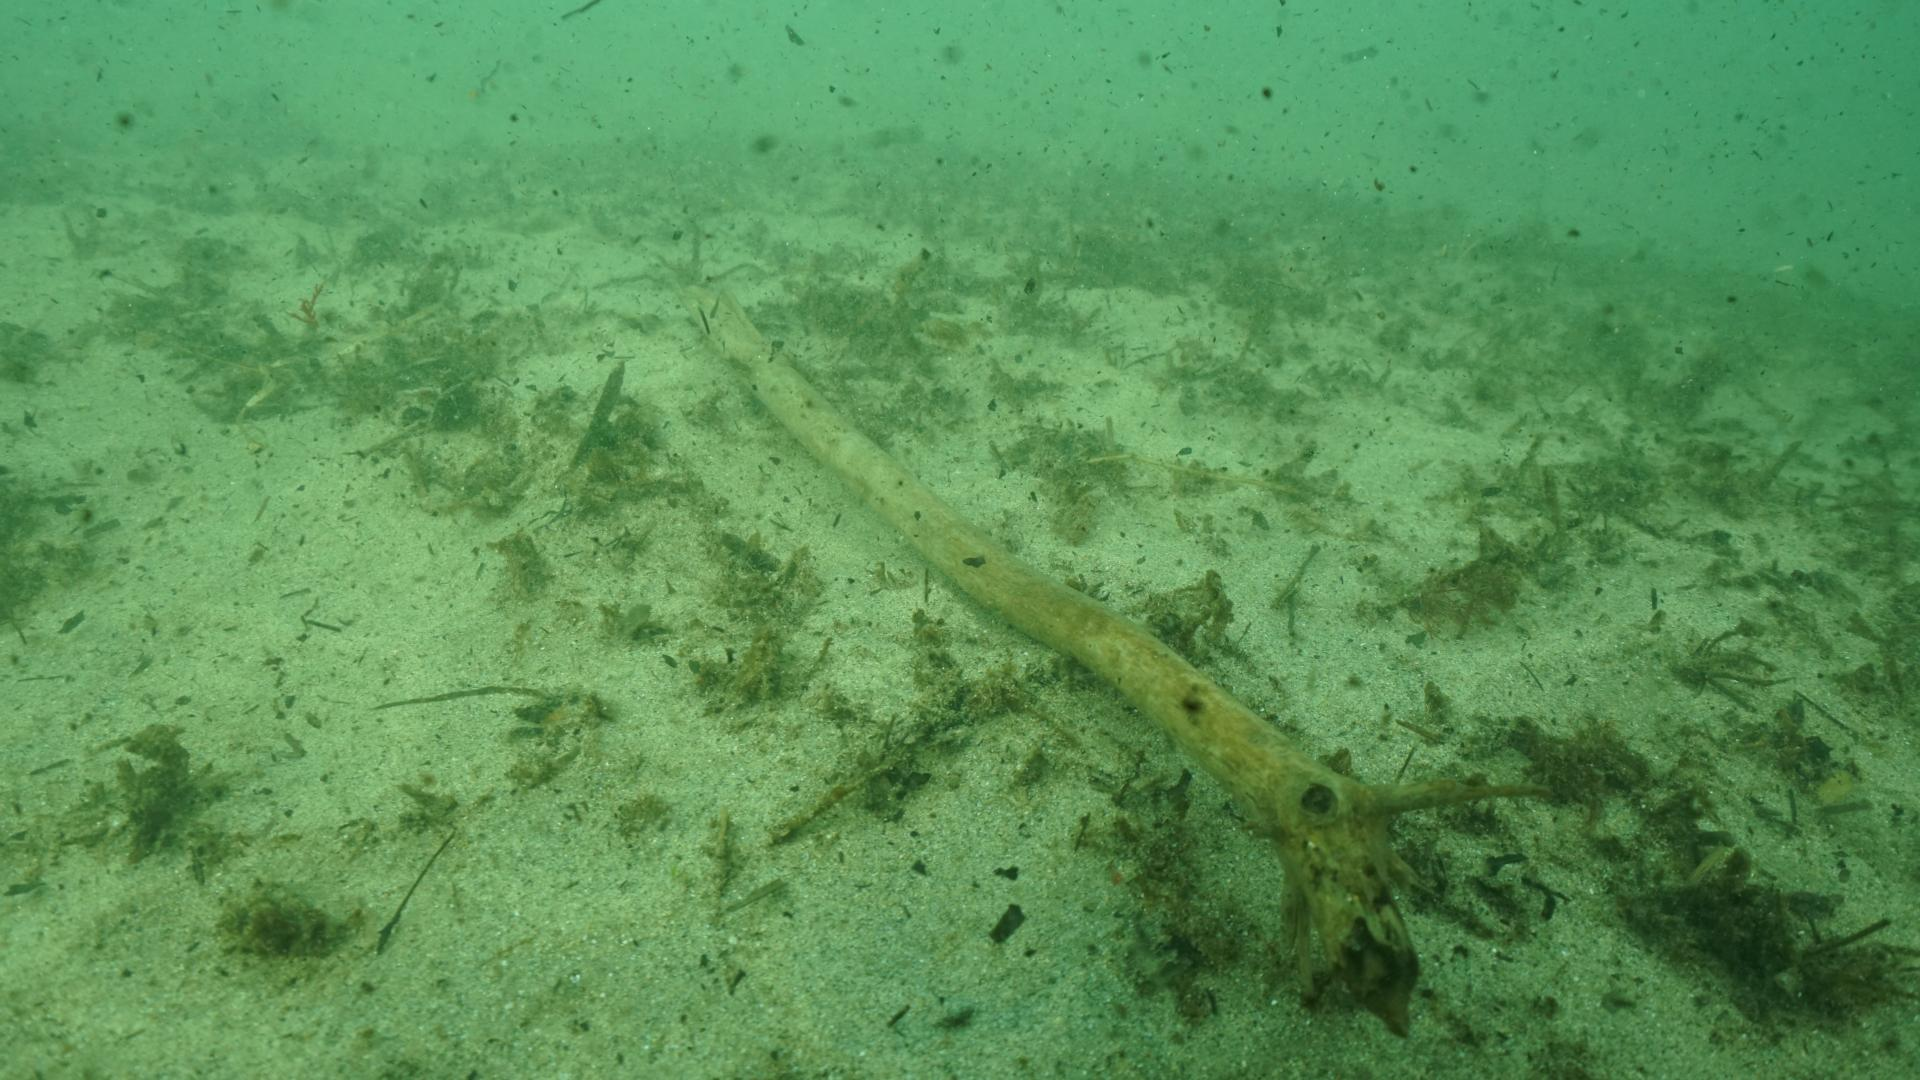wood: (690, 277, 1557, 1023)
